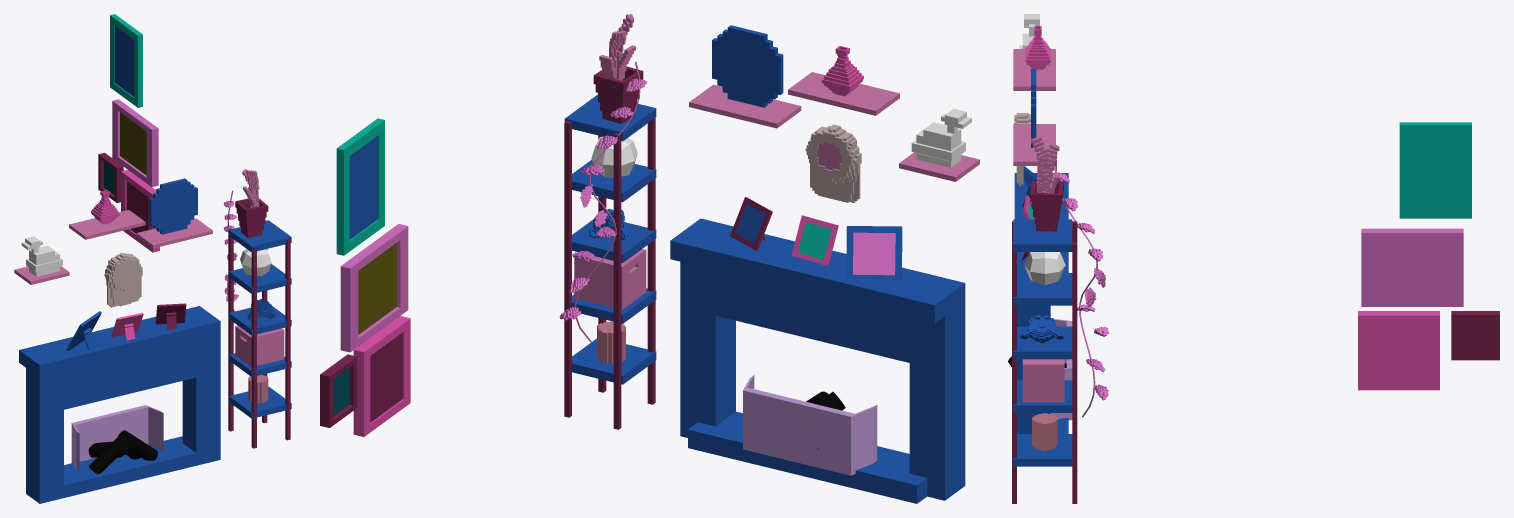
3 views of the same model, side by side, from view 1: azimuth 30°, elevation 25°; view 2: azimuth 150°, elevation 25°; view 3: azimuth 270°, elevation 25° (orthographic). The views are drawn at different scales.
Parts seen in each view (by area): view 1: Objetos pared secundaria, Reloj; view 2: Objetos pared secundaria, Reloj; view 3: Objetos pared secundaria.
Boxes of the visible parts, <box> form: Objetos pared secundaria: <box>14,14,291,503</box>; Reloj: <box>104,253,142,307</box>; Objetos pared secundaria: <box>320,14,979,503</box>; Reloj: <box>805,124,861,202</box>; Objetos pared secundaria: <box>1008,14,1499,503</box>.
Size of the model in its own units: 159 by 172 by 199.
